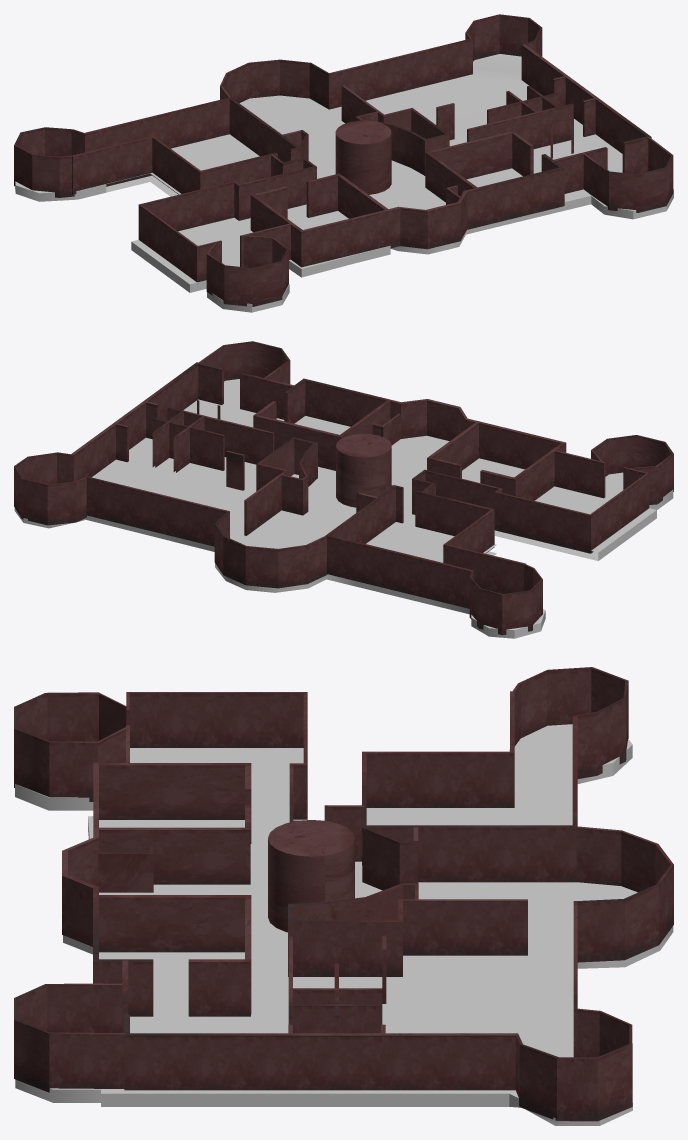
File: Mansion_Floor_1ST_V2.fbx
3 renders of one model, top to bottom at view 1: azimuth 30°, elevation 25°; view 2: azimuth 150°, elevation 25°; view 3: azimuth 270°, elevation 25°, orthographic. The views are drawn at different scales.
Visible parts, largest first — view 1: pCube130, polySurface269, polySurface279, polySurface283, polySurface80, polySurface115, polySurface126, polySurface256, polySurface235, polySurface268, polySurface246, polySurface281 (+23 smaller); view 2: pCube130, polySurface283, polySurface279, polySurface269, polySurface80, polySurface115, polySurface256, polySurface268, polySurface126, polySurface288, polySurface285, polySurface235 (+25 smaller); view 3: pCube130, polySurface256, polySurface268, polySurface283, polySurface279, polySurface115, polySurface236, polySurface263, polySurface238, polySurface282, polySurface126, polySurface288 (+16 smaller).
Boxes of the visible parts, bbox=[...] form: pCube130: bbox=[15, 54, 673, 312]; polySurface269: bbox=[299, 166, 564, 267]; polySurface279: bbox=[138, 157, 316, 282]; polySurface283: bbox=[84, 97, 308, 161]; polySurface80: bbox=[328, 38, 472, 109]; polySurface115: bbox=[220, 59, 328, 108]; polySurface126: bbox=[335, 120, 391, 194]; polySurface256: bbox=[521, 44, 651, 153]; polySurface235: bbox=[72, 136, 152, 194]; polySurface268: bbox=[341, 85, 449, 175]; polySurface246: bbox=[224, 249, 288, 306]; polySurface281: bbox=[609, 155, 673, 212]; pCube130: bbox=[14, 379, 673, 638]; polySurface283: bbox=[325, 485, 473, 608]; polySurface279: bbox=[412, 469, 649, 553]; polySurface269: bbox=[302, 378, 566, 469]; polySurface80: bbox=[85, 476, 229, 546]; polySurface115: bbox=[214, 512, 327, 588]; polySurface256: bbox=[70, 362, 199, 481]; polySurface268: bbox=[244, 437, 317, 535]; polySurface126: bbox=[336, 434, 391, 507]; polySurface288: bbox=[14, 457, 86, 525]; polySurface285: bbox=[469, 570, 542, 635]; polySurface235: bbox=[445, 544, 525, 593]; pCube130: bbox=[15, 724, 673, 1125]; polySurface256: bbox=[124, 1033, 517, 1090]; polySurface268: bbox=[288, 883, 527, 976]; polySurface283: bbox=[362, 716, 577, 890]; polySurface279: bbox=[126, 692, 329, 822]; polySurface115: bbox=[576, 826, 673, 962]; polySurface236: bbox=[362, 751, 514, 807]; polySurface263: bbox=[98, 895, 251, 952]; polySurface238: bbox=[98, 763, 251, 819]; polySurface282: bbox=[46, 983, 126, 1092]; polySurface126: bbox=[268, 820, 354, 932]; polySurface288: bbox=[557, 1008, 632, 1121].
Bounding box in the file's own units: 5907 × 4176 × 650.
